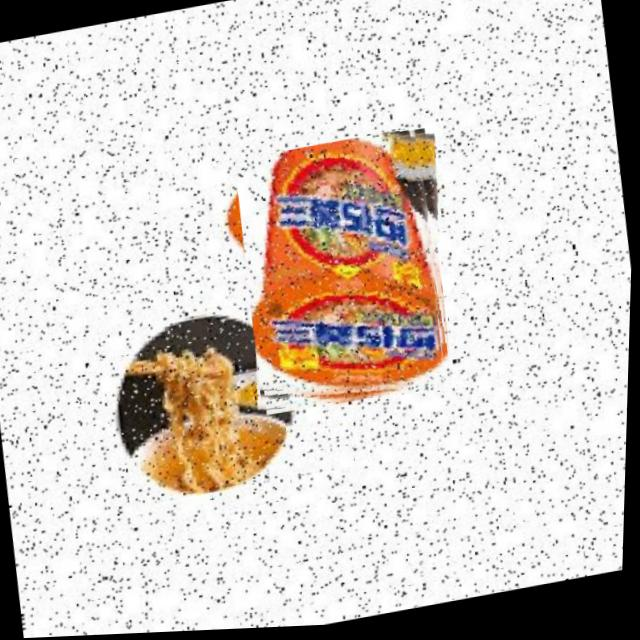Miscellaneous: (228, 126, 466, 423)
